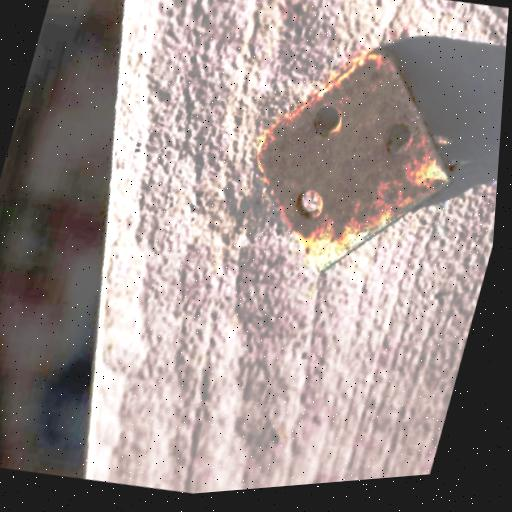corrosion: (221, 28, 466, 278)
